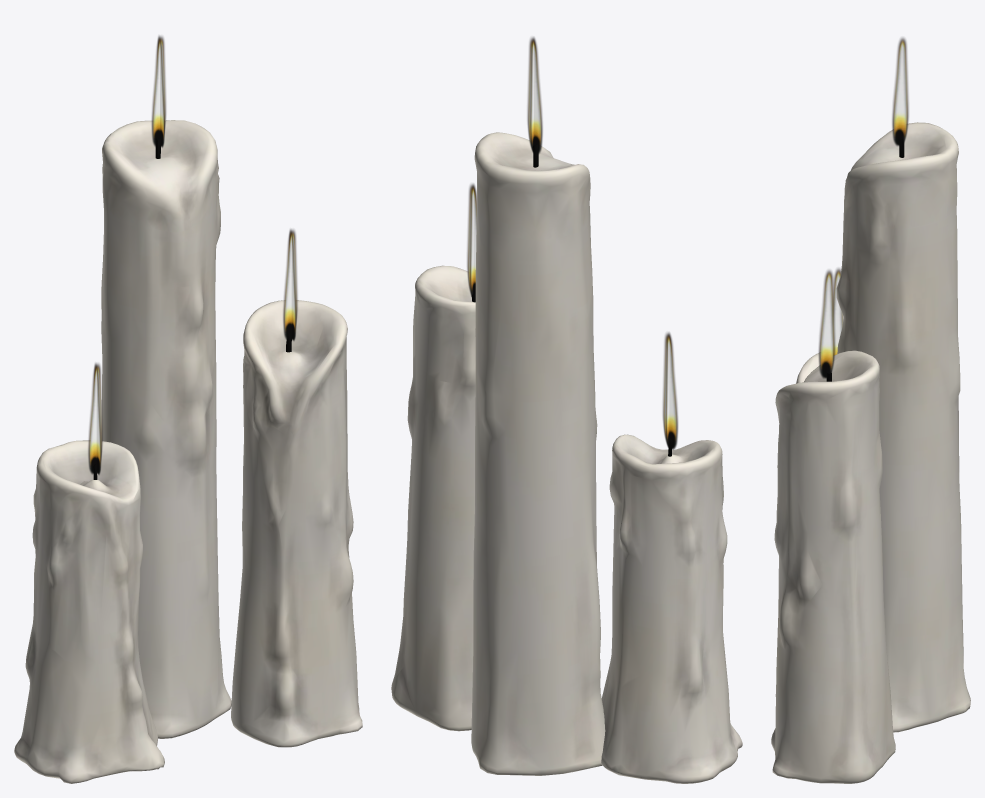
Rendered from candles.glb.
3 renders of one model, left to right at view 1: azimuth 30°, elevation 25°; view 2: azimuth 150°, elevation 25°; view 3: azimuth 270°, elevation 25°, orthographic. The views are drawn at different scales.
Parts seen in each view (by area): view 1: CandleSet01_Stick03_geo_Candles_MAT_0, CandleSet01_Stick02_Flame_geo_Candles_Fire_MAT_0; view 2: CandleSet01_Stick03_geo_Candles_MAT_0, CandleSet01_Stick02_Flame_geo_Candles_Fire_MAT_0; view 3: CandleSet01_Stick03_geo_Candles_MAT_0, CandleSet01_Stick02_Flame_geo_Candles_Fire_MAT_0.
Part boxes in pixels (left/top/right/bottom): CandleSet01_Stick03_geo_Candles_MAT_0: left=14, top=120, right=362, bottom=783; CandleSet01_Stick02_Flame_geo_Candles_Fire_MAT_0: left=88, top=35, right=297, bottom=474; CandleSet01_Stick03_geo_Candles_MAT_0: left=391, top=132, right=742, bottom=783; CandleSet01_Stick02_Flame_geo_Candles_Fire_MAT_0: left=467, top=37, right=677, bottom=449; CandleSet01_Stick03_geo_Candles_MAT_0: left=771, top=122, right=970, bottom=783; CandleSet01_Stick02_Flame_geo_Candles_Fire_MAT_0: left=818, top=37, right=908, bottom=378.
Size of the model in its own units: 0.1522 by 0.3185 by 0.084.
3 materials, 2 textured.
